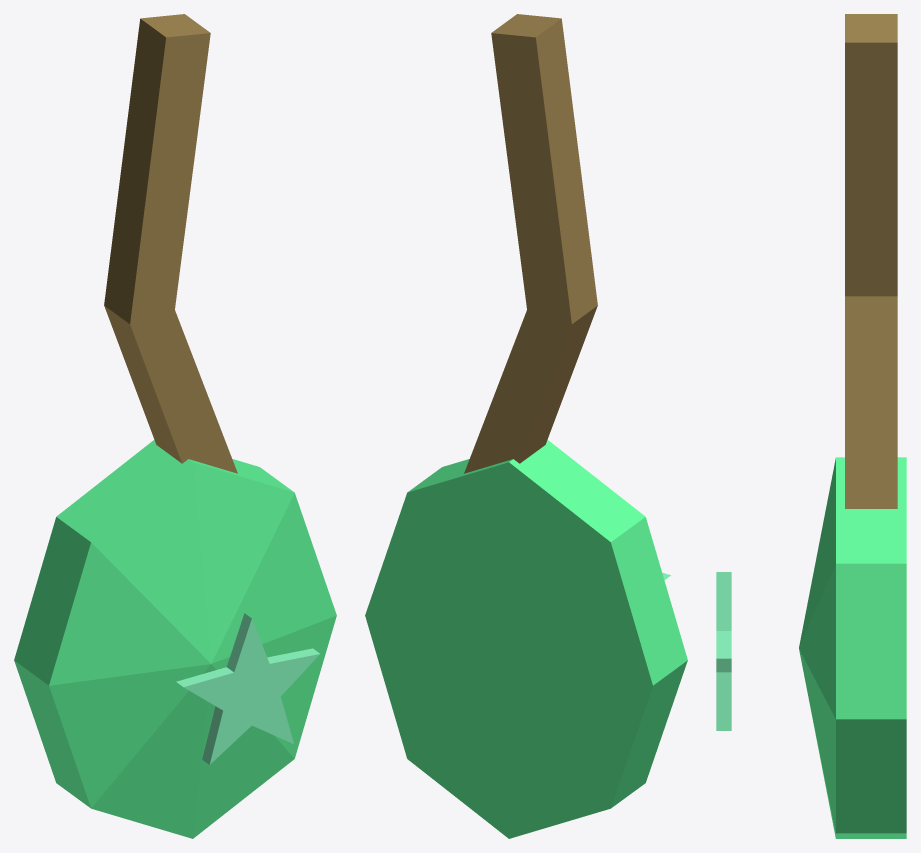
File: thunder_seed.obj
3 views of the same model, side by side, from view 1: azimuth 30°, elevation 25°; view 2: azimuth 150°, elevation 25°; view 3: azimuth 270°, elevation 25° (orthographic).
Visible parts, largest first — view 1: thunder_seed, thunder_chain, thunder_chain_edge, seed_glint, seed_glint_edge; view 2: thunder_seed, thunder_chain, thunder_chain_edge; view 3: thunder_seed, thunder_chain_edge, seed_glint_edge.
Boxes of the visible parts, bbox=[...] form: thunder_seed: bbox=[14, 440, 336, 838]; thunder_chain: bbox=[130, 33, 237, 473]; thunder_chain_edge: bbox=[104, 14, 210, 463]; seed_glint: bbox=[184, 619, 319, 764]; seed_glint_edge: bbox=[176, 613, 319, 764]; thunder_seed: bbox=[365, 440, 687, 838]; thunder_chain: bbox=[464, 33, 571, 473]; thunder_chain_edge: bbox=[491, 14, 597, 463]; thunder_seed: bbox=[799, 457, 906, 838]; thunder_chain_edge: bbox=[845, 14, 897, 508]; seed_glint_edge: bbox=[716, 572, 731, 730].
Bounding box in the file's own units: 0.32 × 0.8534 × 0.1808.
